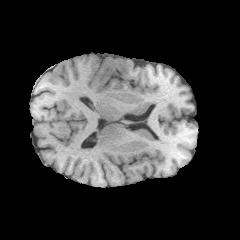glioma: (94, 58, 133, 88)
